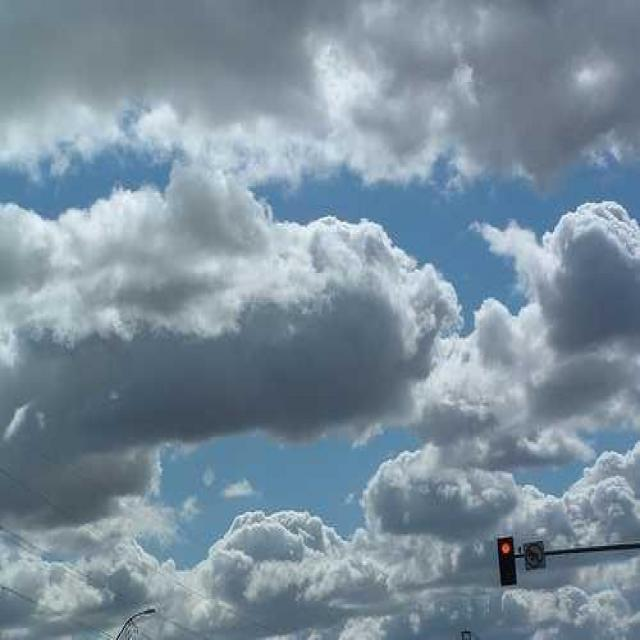red_light: (497, 530, 517, 588)
